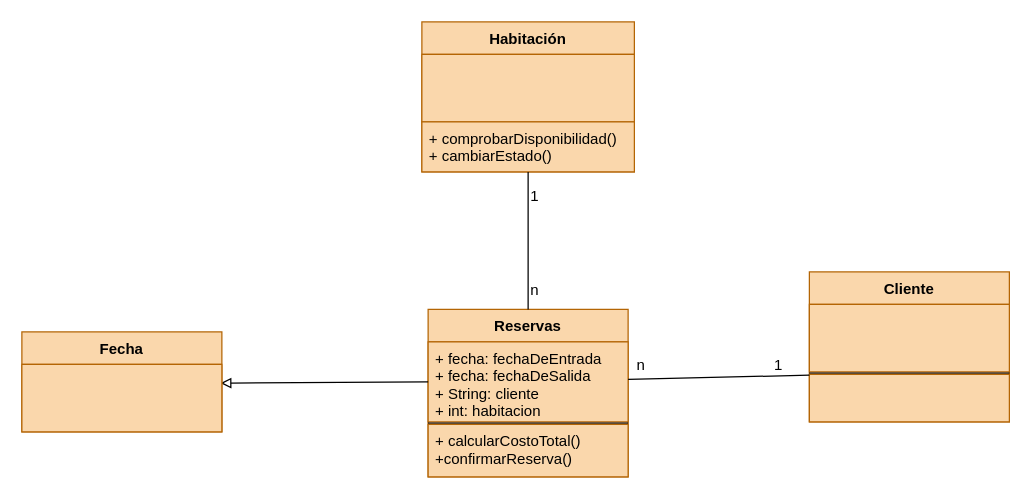
Image size: 1031x503. Some labels were removed from this diagram. Here are the shapes that lost their labels. From the top down, the centre of each, then its label:
At point (527, 87): "+ int: numeroDeHabitación + String: tipoDeHabitacion + float: precioPorNoche".
At point (908, 337): "+ String: nombre + int: numeroDeContacto + String: correoElectronico".
At point (121, 397): "+ int: Dia + int: mes + int: anio".
At point (908, 397): "+ registrarCliente() + obtenerInformacion()".
